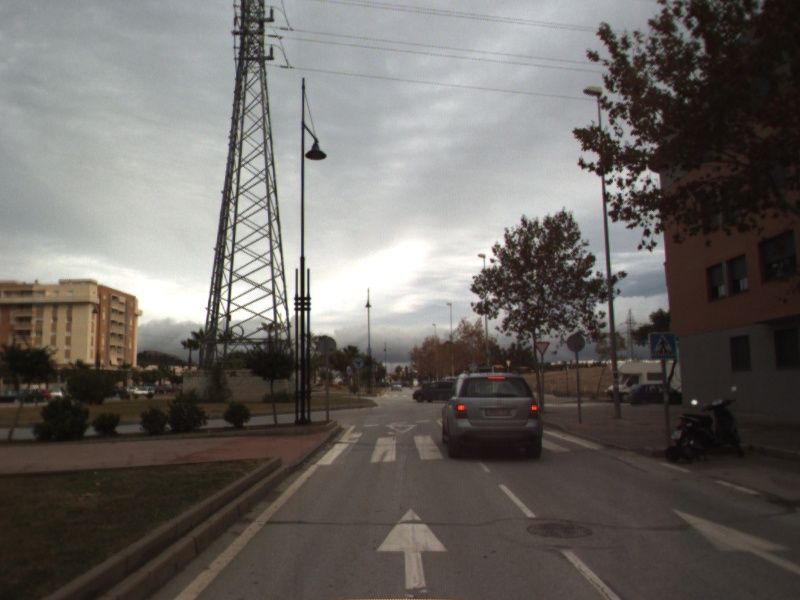STRAIGHT: (670, 507, 800, 575), (373, 506, 451, 600)
